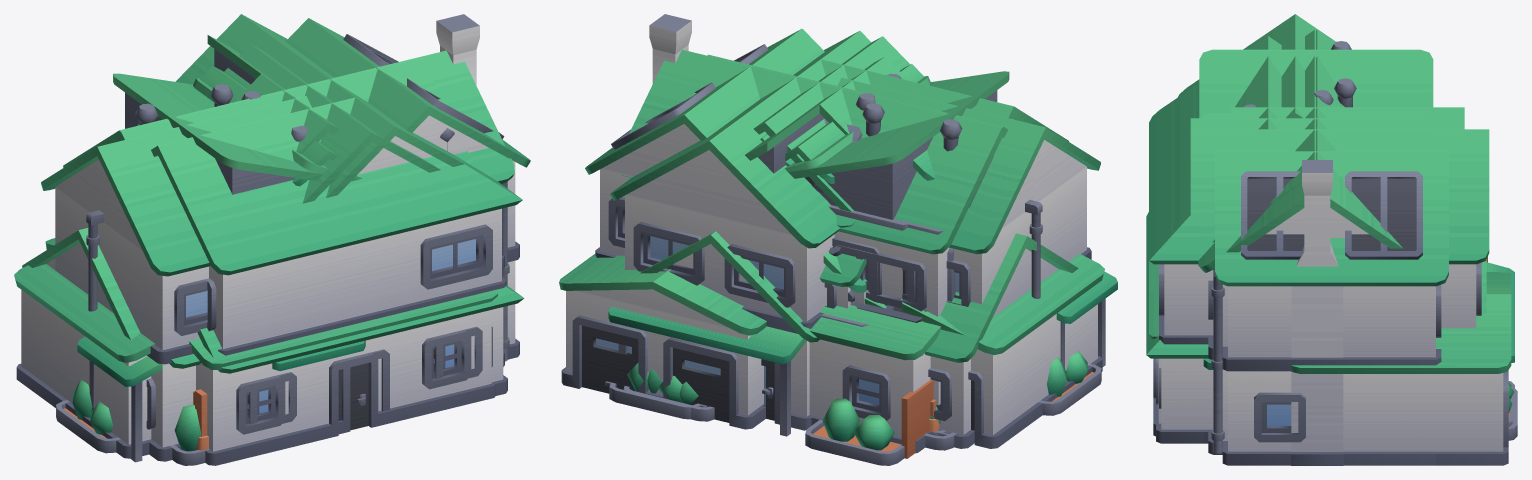
The model's file is suburban.glb.
3 renders of one model, left to right at view 1: azimuth 30°, elevation 25°; view 2: azimuth 150°, elevation 25°; view 3: azimuth 270°, elevation 25°, orthographic. The views are drawn at different scales.
Visible parts, largest first — view 1: building-type-f, building-type-n, building-type-t, building-type-d, building-type-b, building-type-m, building-type-k, building-type-u, building-type-s, building-type-r, building-type-e, fence-3x3 (+1 smaller); view 2: building-type-n, building-type-f, building-type-d, building-type-b, building-type-t, building-type-e, building-type-k, building-type-m, building-type-r, building-type-s, building-type-u, building-type-o (+5 smaller); view 3: building-type-b, building-type-f, building-type-d, building-type-n, building-type-k, building-type-u, building-type-m, building-type-r, building-type-t, building-type-s, building-type-o, building-type-e.
Part boxes in pixels (<box>): building-type-f: <box>137,14,522,465</box>; building-type-n: <box>41,96,365,462</box>; building-type-t: <box>45,57,498,465</box>; building-type-d: <box>14,14,514,458</box>; building-type-b: <box>22,18,530,453</box>; building-type-m: <box>197,285,524,434</box>; building-type-k: <box>113,73,357,194</box>; building-type-u: <box>263,38,495,197</box>; building-type-s: <box>224,44,440,203</box>; building-type-r: <box>207,35,339,153</box>; building-type-e: <box>63,56,421,167</box>; fence-3x3: <box>193,389,208,450</box>; building-type-n: <box>559,77,1117,446</box>; building-type-f: <box>608,59,1068,436</box>; building-type-d: <box>621,14,1104,448</box>; building-type-b: <box>585,28,1101,448</box>; building-type-t: <box>623,54,1007,465</box>; building-type-e: <box>785,110,1007,316</box>; building-type-k: <box>788,71,1009,290</box>; building-type-m: <box>609,231,819,419</box>; building-type-r: <box>745,56,908,326</box>; building-type-s: <box>753,36,909,211</box>; building-type-u: <box>720,31,956,450</box>; building-type-o: <box>690,56,914,220</box>; building-type-b: <box>1211,151,1448,465</box>; building-type-f: <box>1149,36,1514,443</box>; building-type-d: <box>1198,47,1402,465</box>; building-type-n: <box>1178,14,1511,465</box>; building-type-k: <box>1199,49,1433,118</box>; building-type-u: <box>1190,129,1424,443</box>; building-type-m: <box>1146,212,1517,443</box>; building-type-r: <box>1230,90,1464,129</box>; building-type-t: <box>1149,30,1514,436</box>; building-type-s: <box>1190,104,1424,369</box>; building-type-o: <box>1317,72,1357,198</box>; building-type-e: <box>1316,30,1335,159</box>.
Bounding box in the file's own units: 1.83 × 1.24 × 1.43.
1 material, 1 textured.
